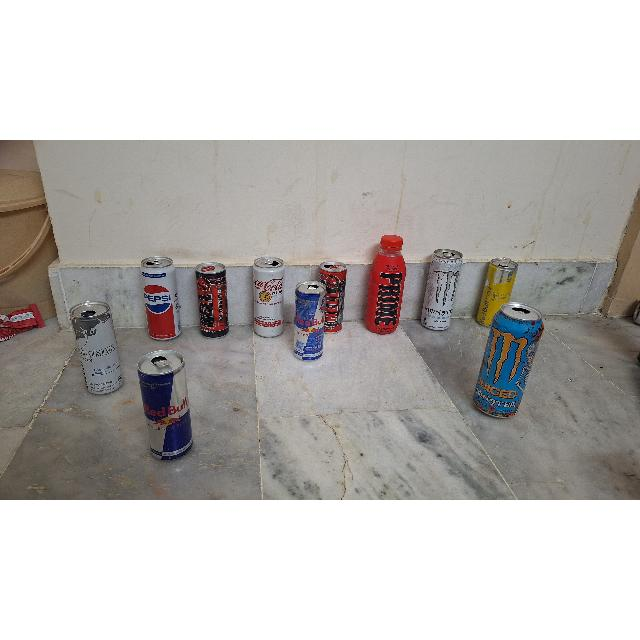Coca Cola Plus: (252, 256, 288, 340)
Hell Apple: (317, 261, 345, 335)
Hell Classic: (194, 260, 232, 342)
Monster Mango Loco: (467, 300, 555, 426)
Pepsi Retro: (135, 248, 183, 342)
Prime - Shitass: (367, 230, 407, 336)
Redbull: (136, 349, 200, 467)
Redbull DanceYourStyle: (292, 280, 326, 362)
Redbull Summer Edition: (68, 298, 128, 399)
Redbull Yellow Edition: (478, 254, 520, 328)
White Monster: (417, 248, 461, 330)
